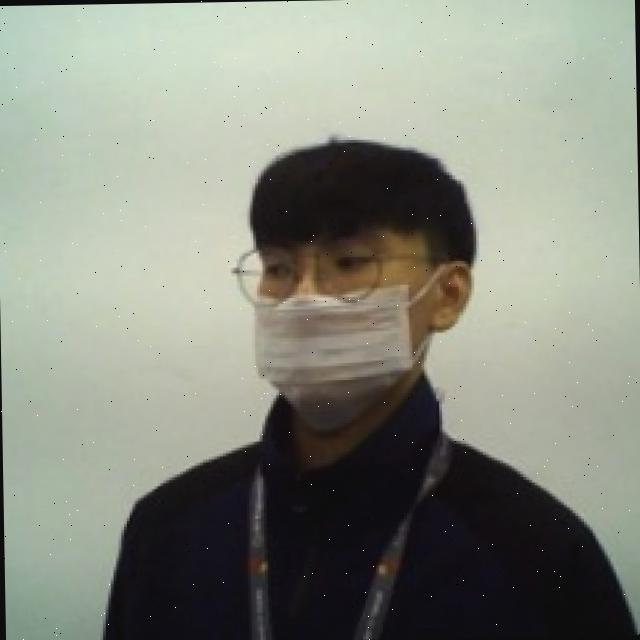mask: (242, 260, 472, 438)
no_gloves: (243, 125, 480, 262)
